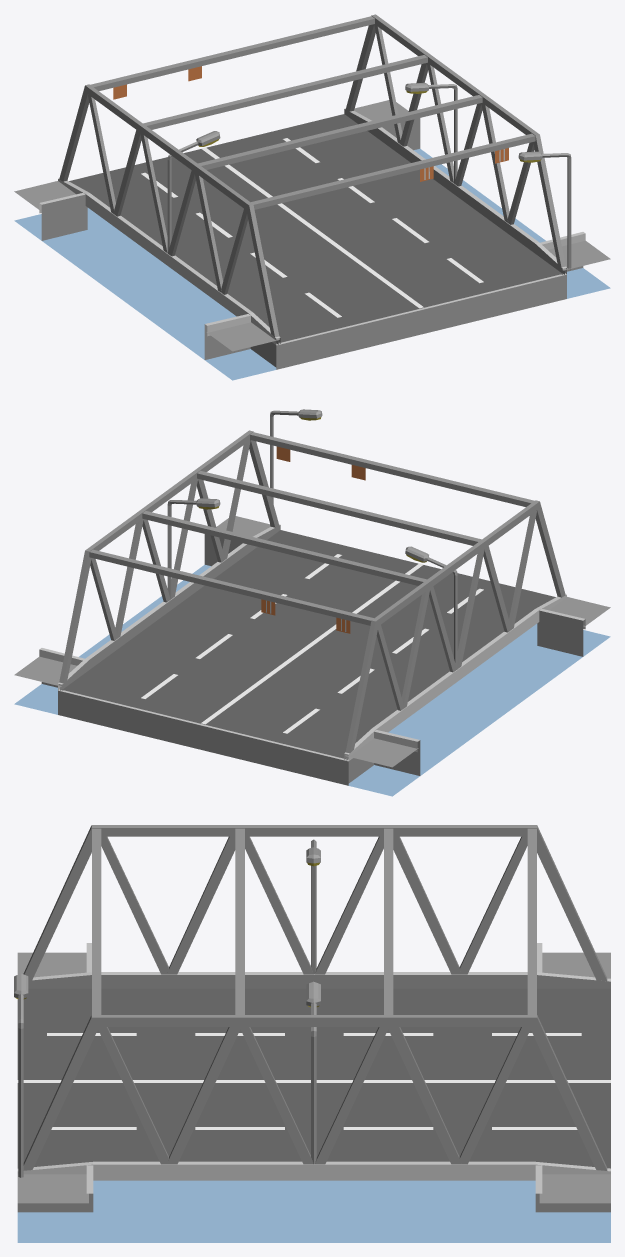
File: road_tile_bridge_2x2_006.glb
3 views of the same model, one above another, from view 1: azimuth 30°, elevation 25°; view 2: azimuth 150°, elevation 25°; view 3: azimuth 270°, elevation 25° (orthographic). The views are drawn at different scales.
Visible parts, largest first — view 1: road_tile_bridge_2x2_006; view 2: road_tile_bridge_2x2_006; view 3: road_tile_bridge_2x2_006.
Boxes of the visible parts, bbox=[...] form: road_tile_bridge_2x2_006: bbox=[14, 14, 610, 380]; road_tile_bridge_2x2_006: bbox=[14, 409, 610, 796]; road_tile_bridge_2x2_006: bbox=[14, 825, 610, 1242].
Size of the model in its own units: 16 by 6.29 by 16.1.
1 material, 1 textured.
